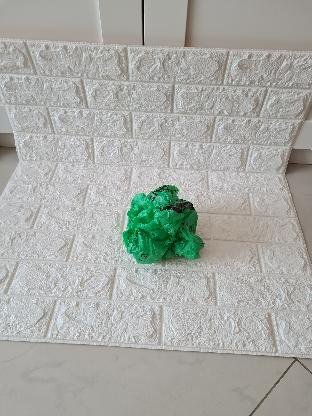Plastic Bag: (120, 184, 202, 268)
